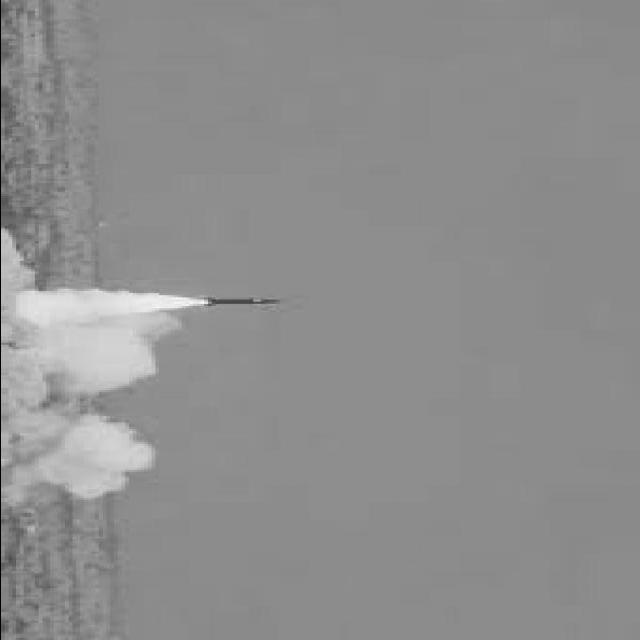missile: (201, 294, 285, 307)
